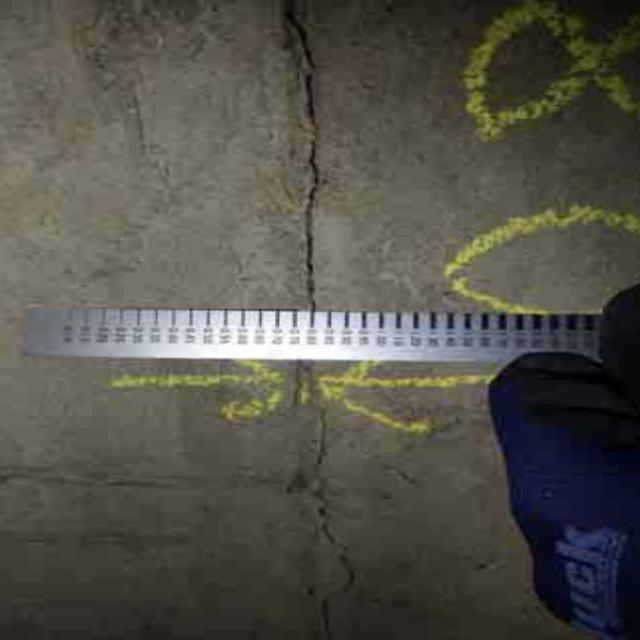crack: (263, 2, 364, 318), (277, 366, 366, 638)
